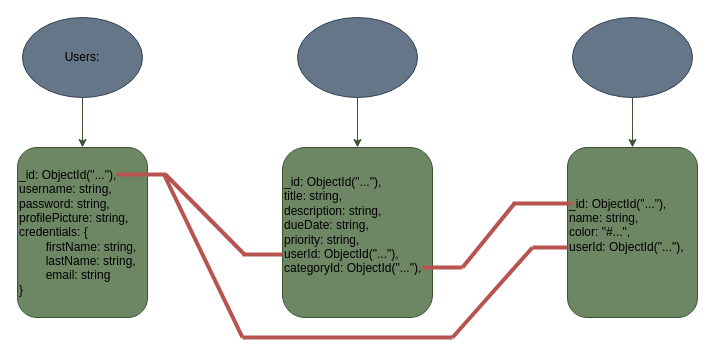
Some shapes in this 715 by 358 pixel diagram are drawn without their labels. Here are the shapes that lost their labels. From the top down, the centre of each, then its label:
At point 357,57: "Tasks:".
At point 632,57: "Categories:".
